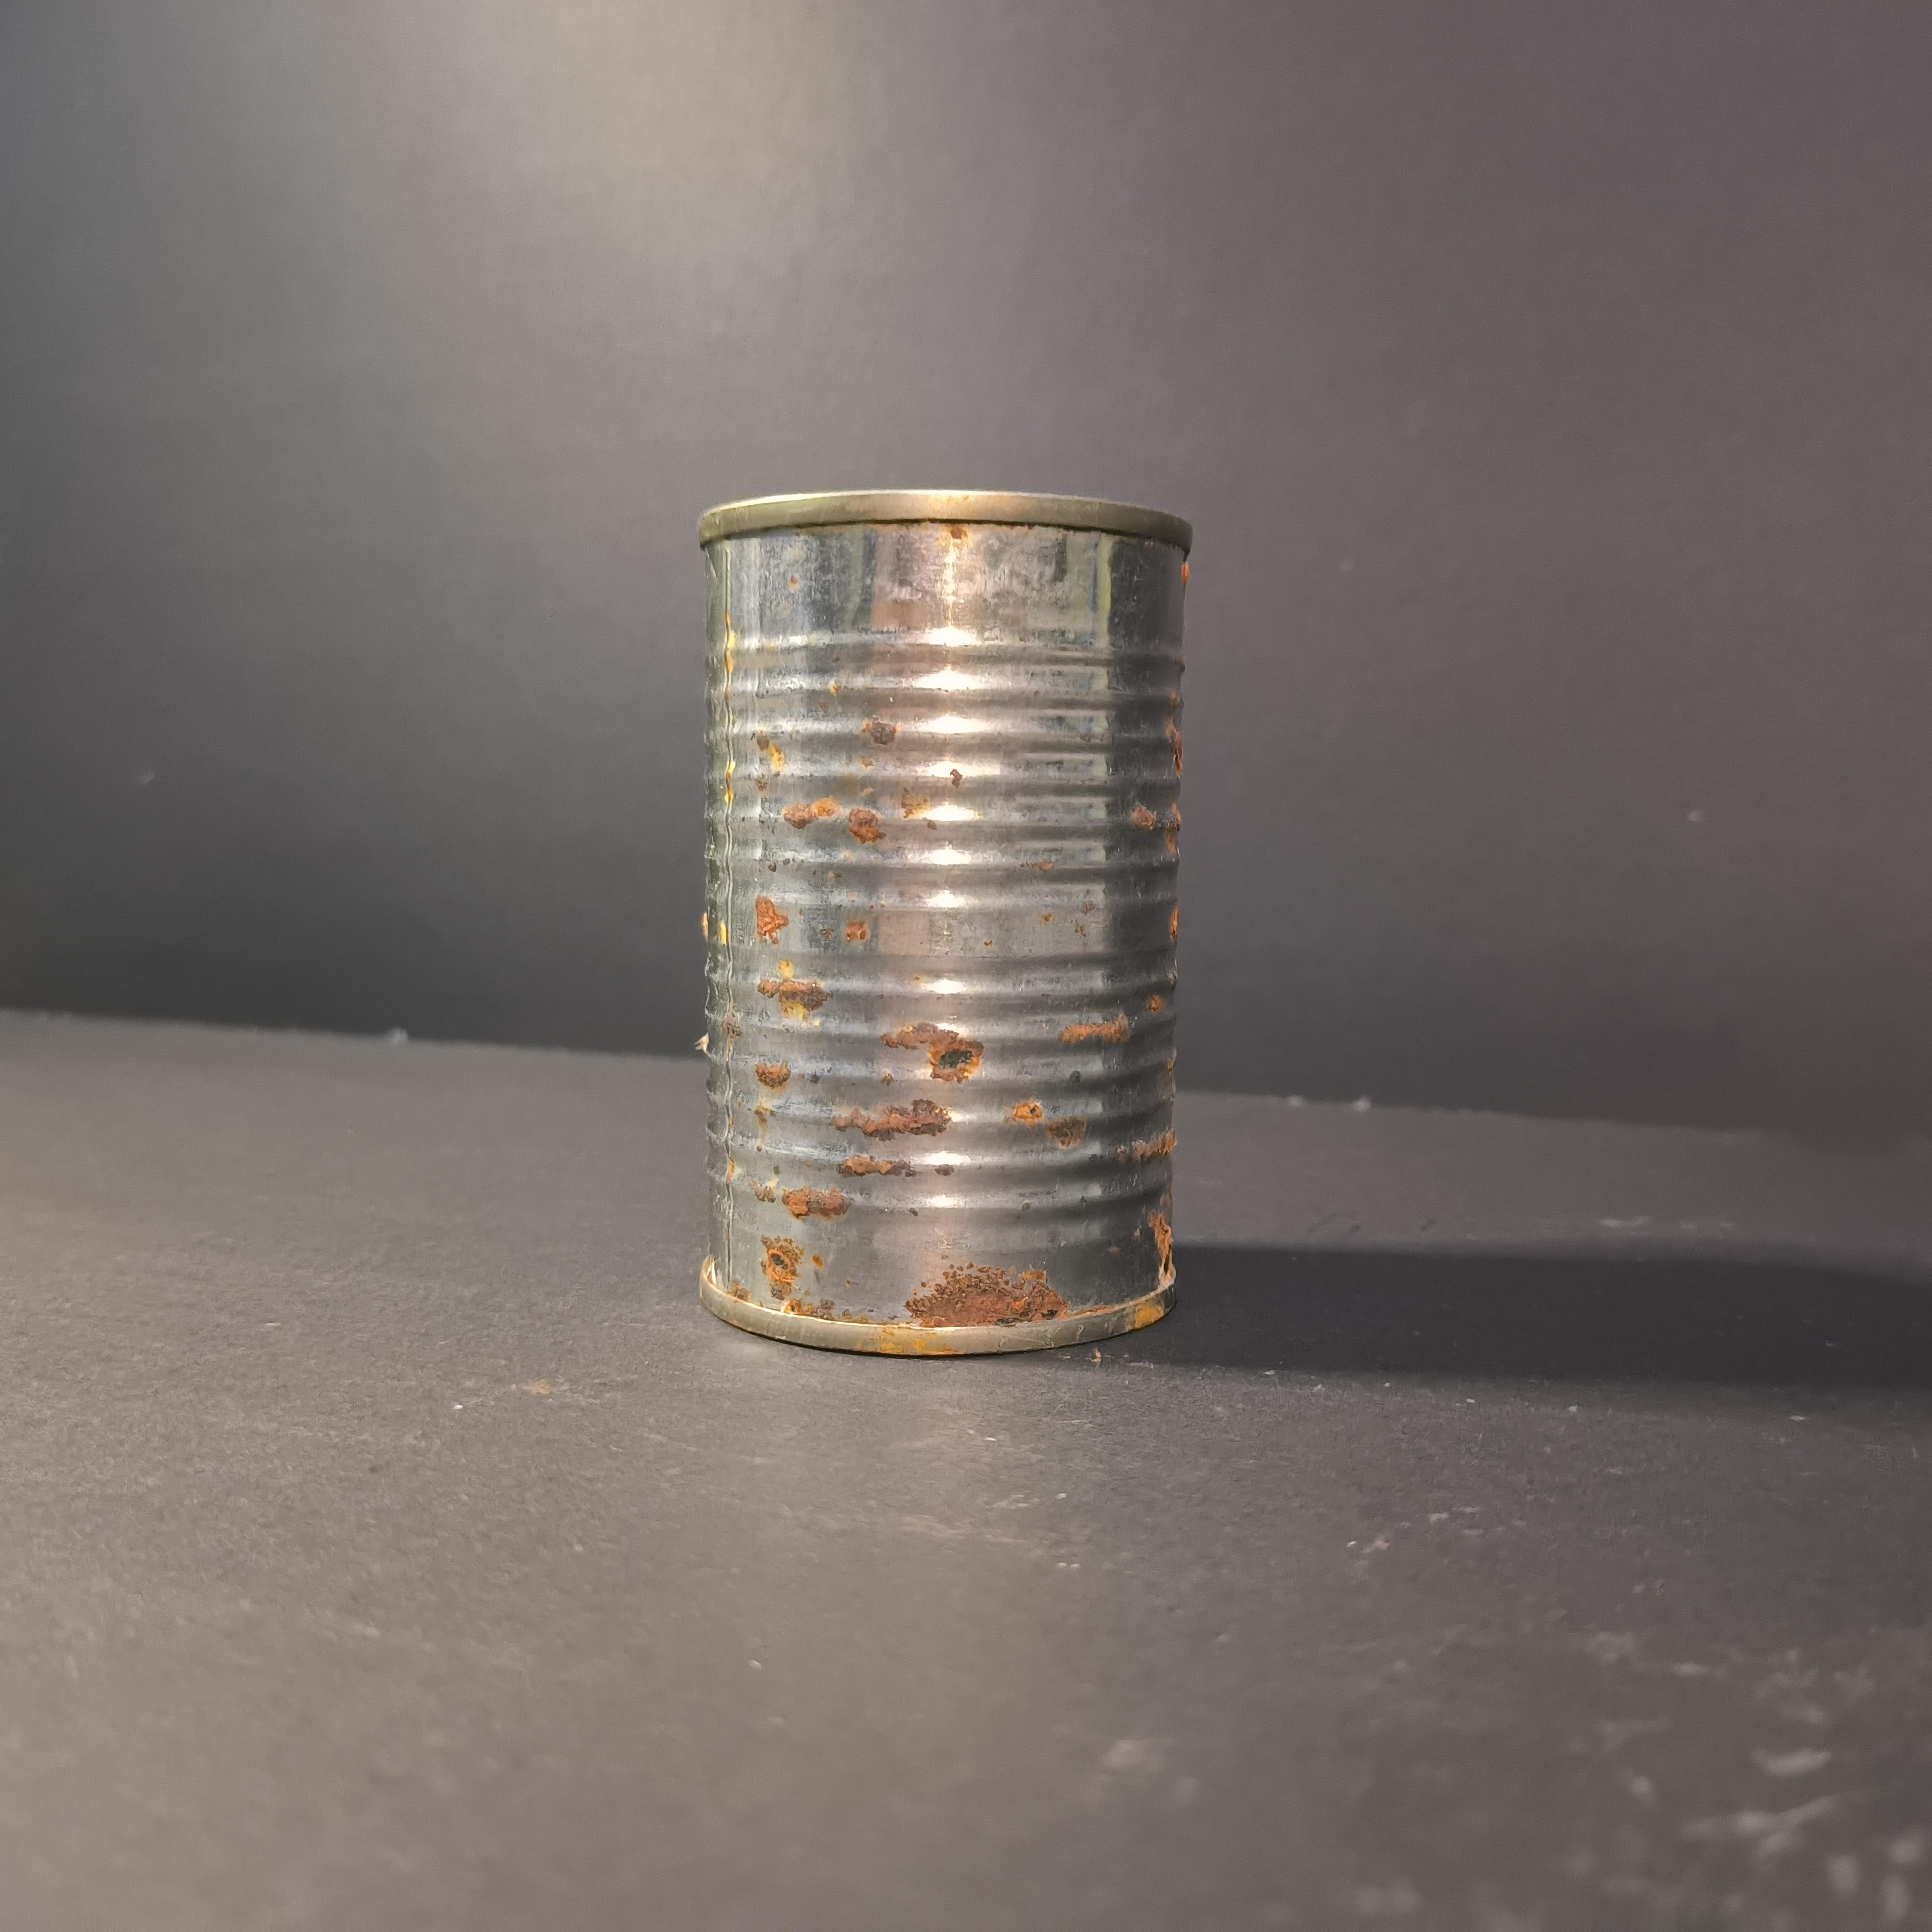Rusted: (685, 467, 1205, 1380)
